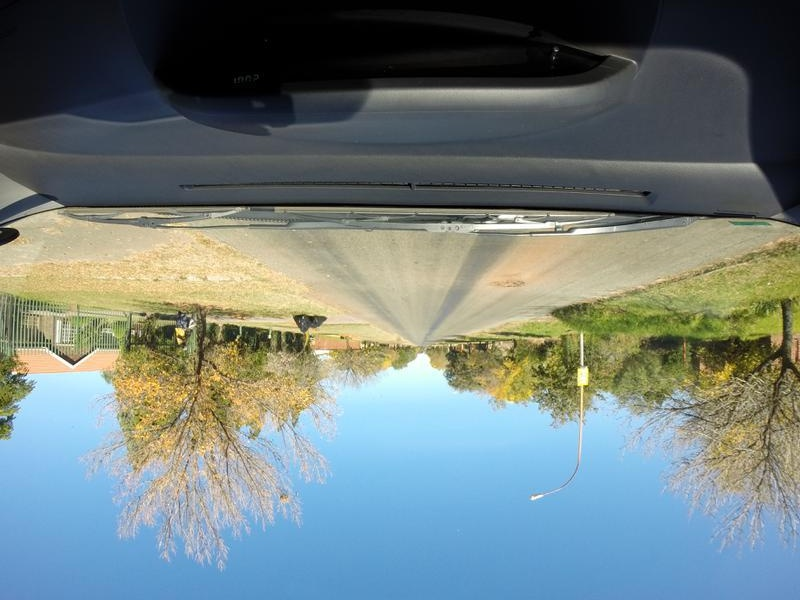pothole: (491, 279, 526, 286)
